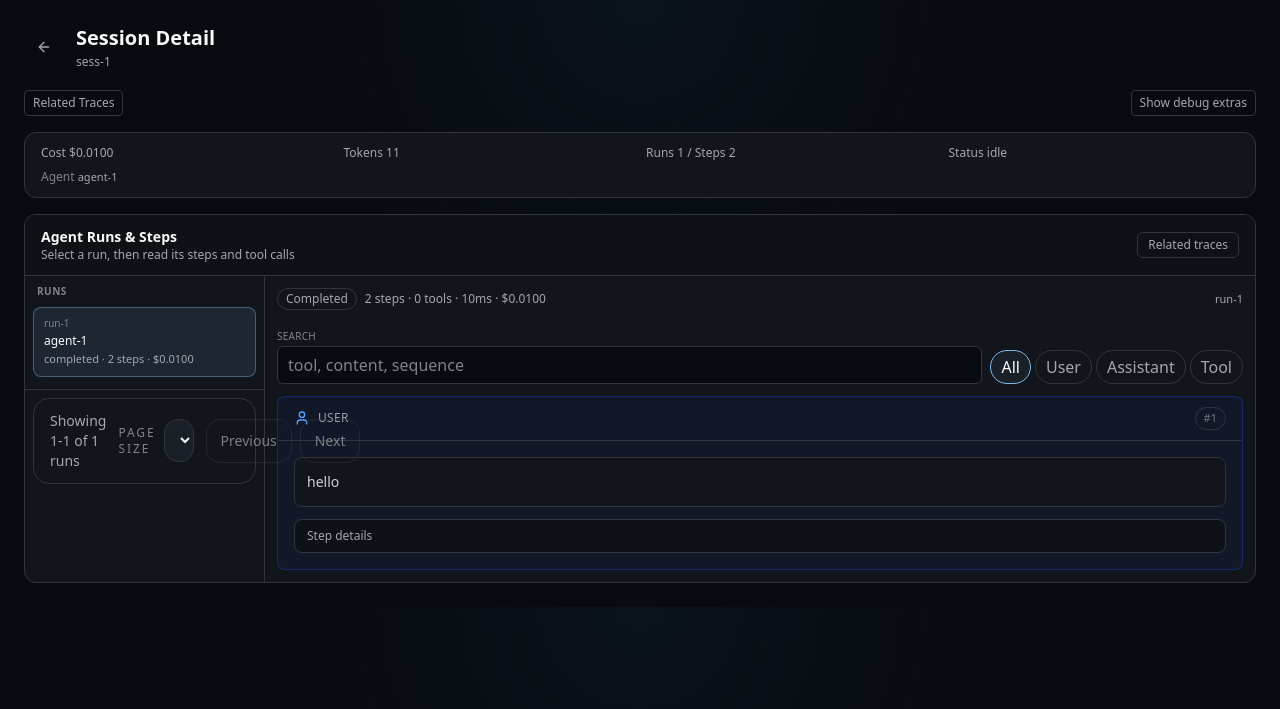
SessionDetailPage › shows runs and steps as the main stage
This screenshot has width=1280, height=709.
expect the heading "Agent Runs & Steps" is shown: met, box [41,227,177,246]
expect the text "hello" is shown: met, box [307,472,339,490]
Click the button "Show debug extras" at (1193, 103), box [1131,90,1256,116]
(page scrolled)
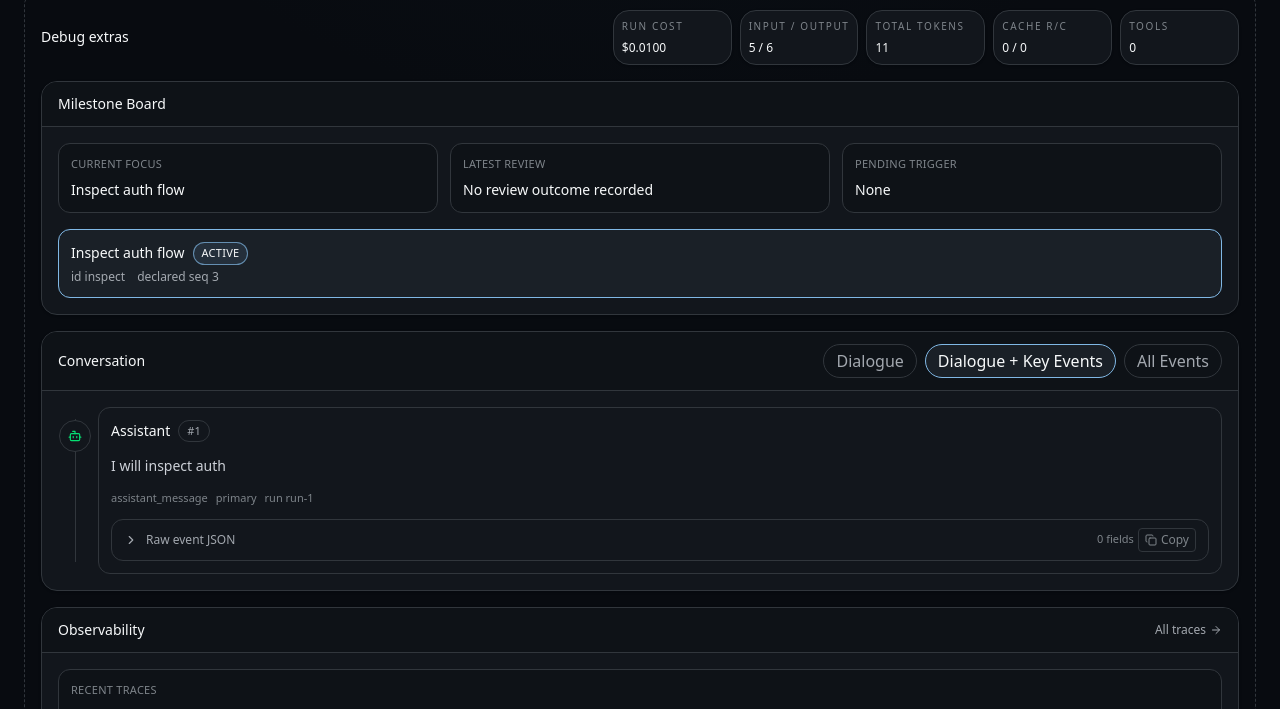
expect the text "Milestone Board" is shown: met, box [58,94,166,114]
expect the text "Conversation" is shown: met, box [58,350,145,370]
